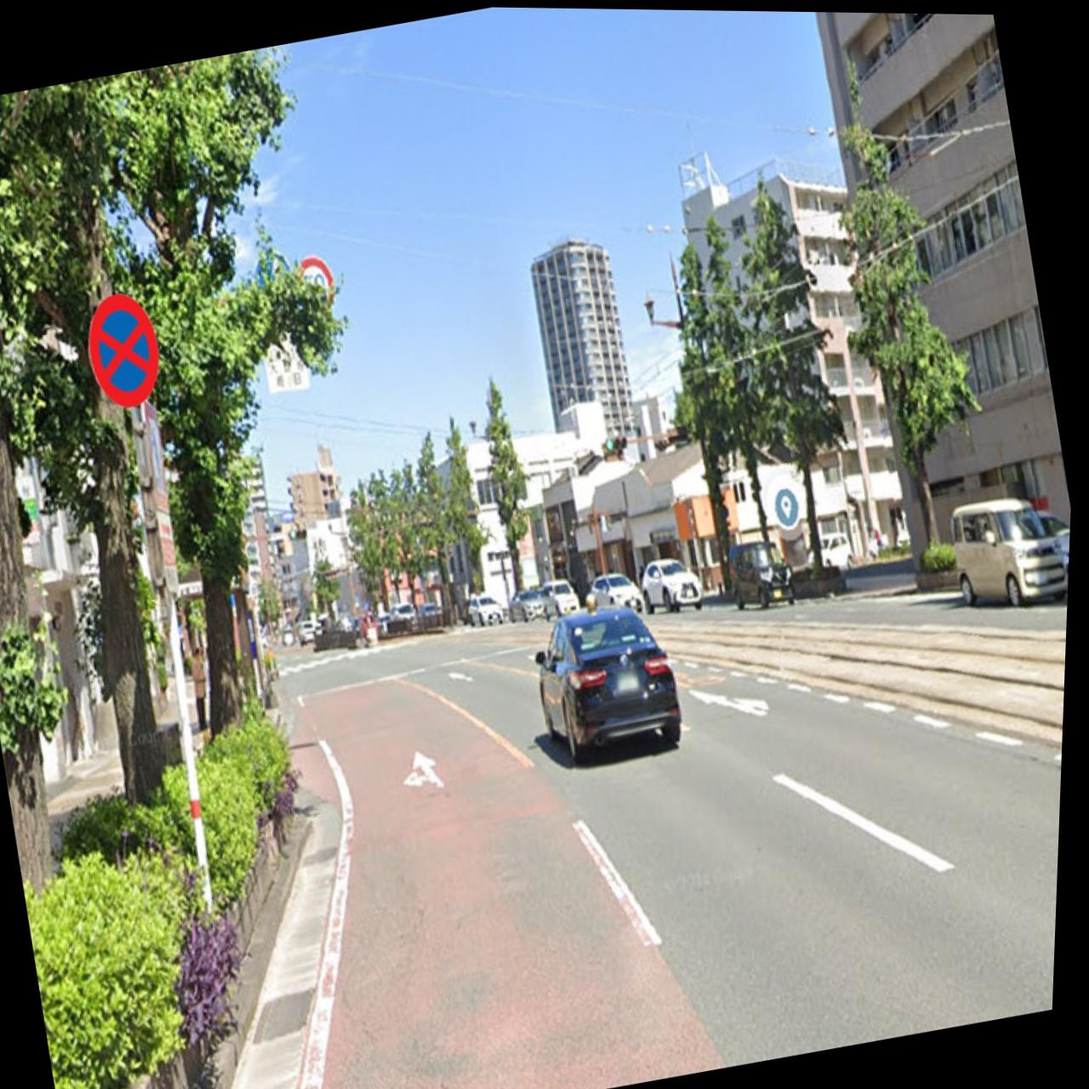stop_sign: (78, 281, 172, 411)
